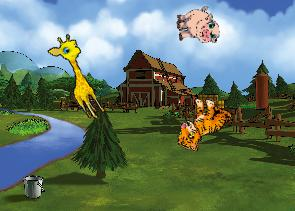giraffe: (44, 30, 116, 123)
pig: (174, 5, 220, 48)
tiger: (173, 92, 234, 158)
